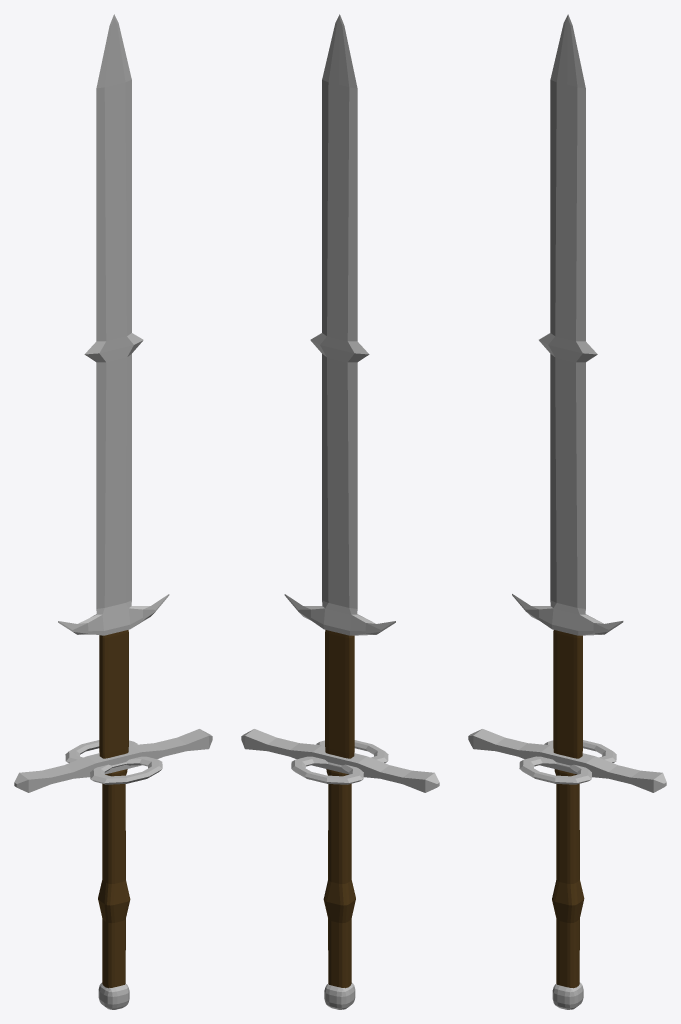
Rendered from Sword.fbx.
3 renders of one model, left to right at view 1: azimuth 30°, elevation 25°; view 2: azimuth 150°, elevation 25°; view 3: azimuth 330°, elevation 25°, orthographic.
Visible parts, largest first — view 1: swordv2; view 2: swordv2; view 3: swordv2.
Part boxes in pixels (<box>): swordv2: <box>14,14,212,1009</box>; swordv2: <box>241,14,439,1009</box>; swordv2: <box>468,14,666,1009</box>.
Bounding box in the file's own units: 77.39 × 375 × 32.89.
